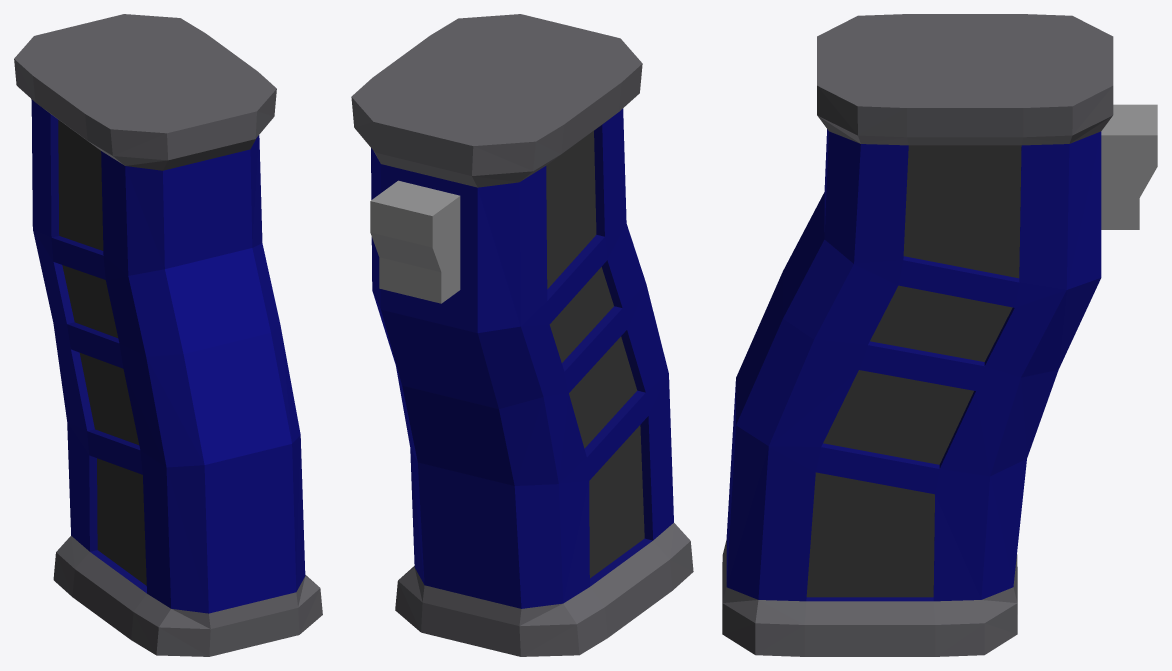
Rendered from Msh_Handle.FBX.
The picture shows the model from 3 angles, left to right: view 1: azimuth 30°, elevation 25°; view 2: azimuth 150°, elevation 25°; view 3: azimuth 270°, elevation 25°; orthographic projection. The views are drawn at different scales.
Visible parts, largest first — view 1: Msh_Handle; view 2: Msh_Handle; view 3: Msh_Handle.
Boxes of the visible parts, x1,y1,x2,y2 form: Msh_Handle: (14, 14, 322, 656); Msh_Handle: (351, 14, 693, 656); Msh_Handle: (722, 14, 1157, 656).
Size of the model in its own units: 0.0358 by 0.0701 by 0.0975.
